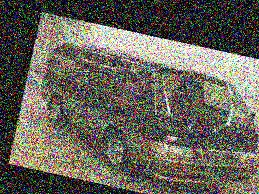van: (26, 35, 259, 194)
